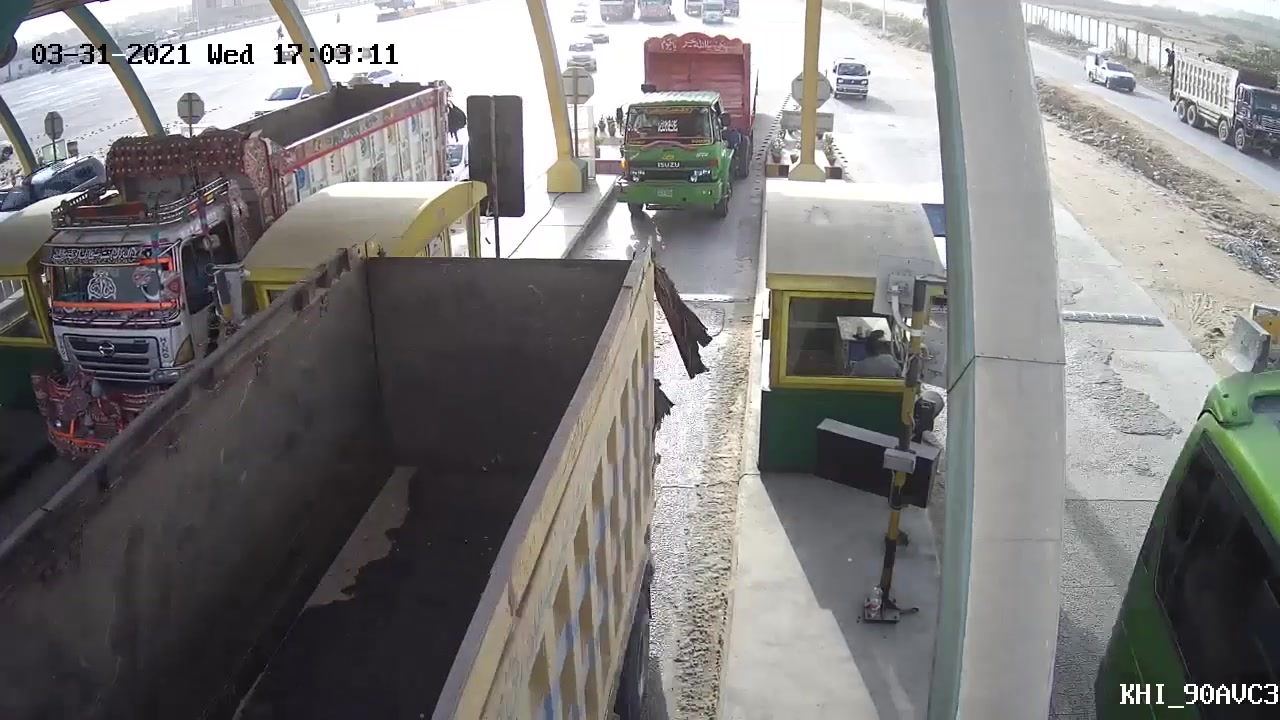F6: (604, 28, 767, 218)
